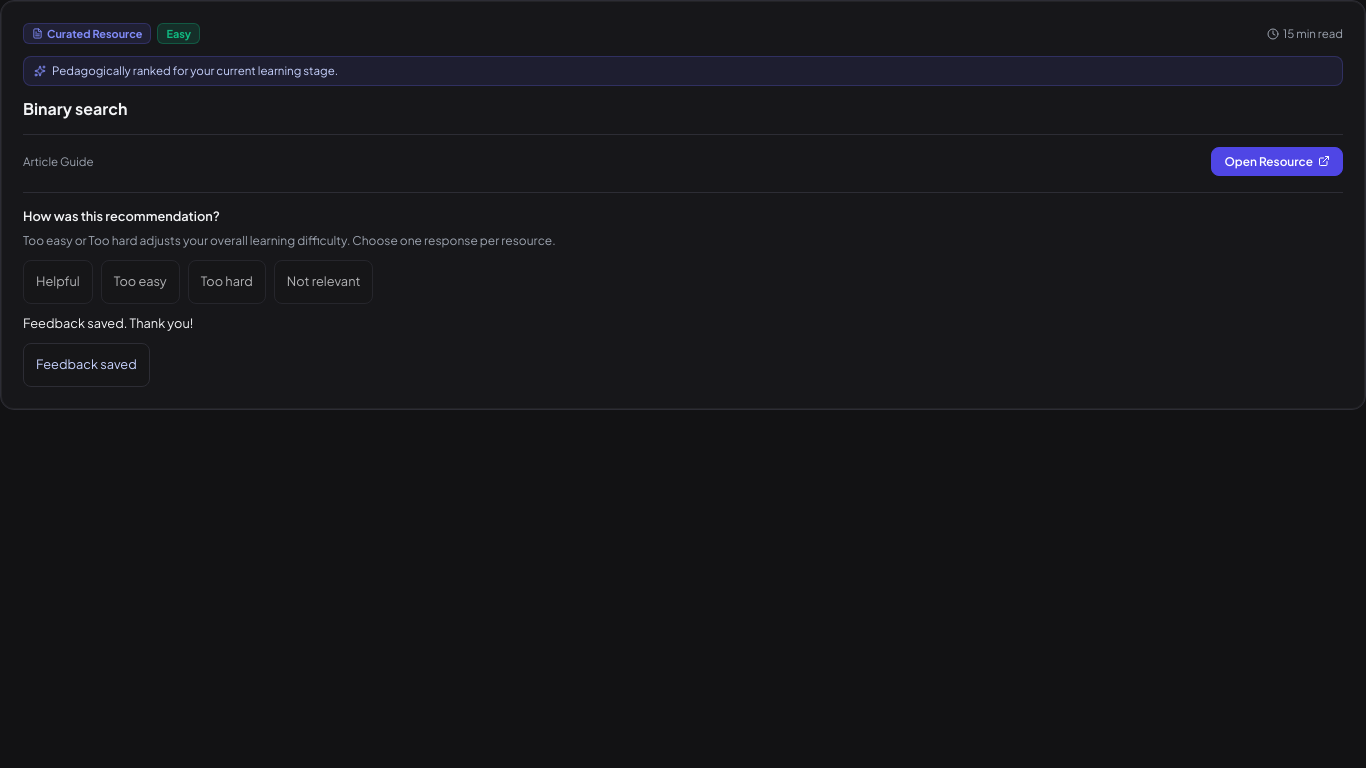
it: Thanks tooltip › dismisses touch-open content on an outside pointer event even without focus
Click the button "Feedback saved" at (86, 365), box [23, 343, 150, 387]
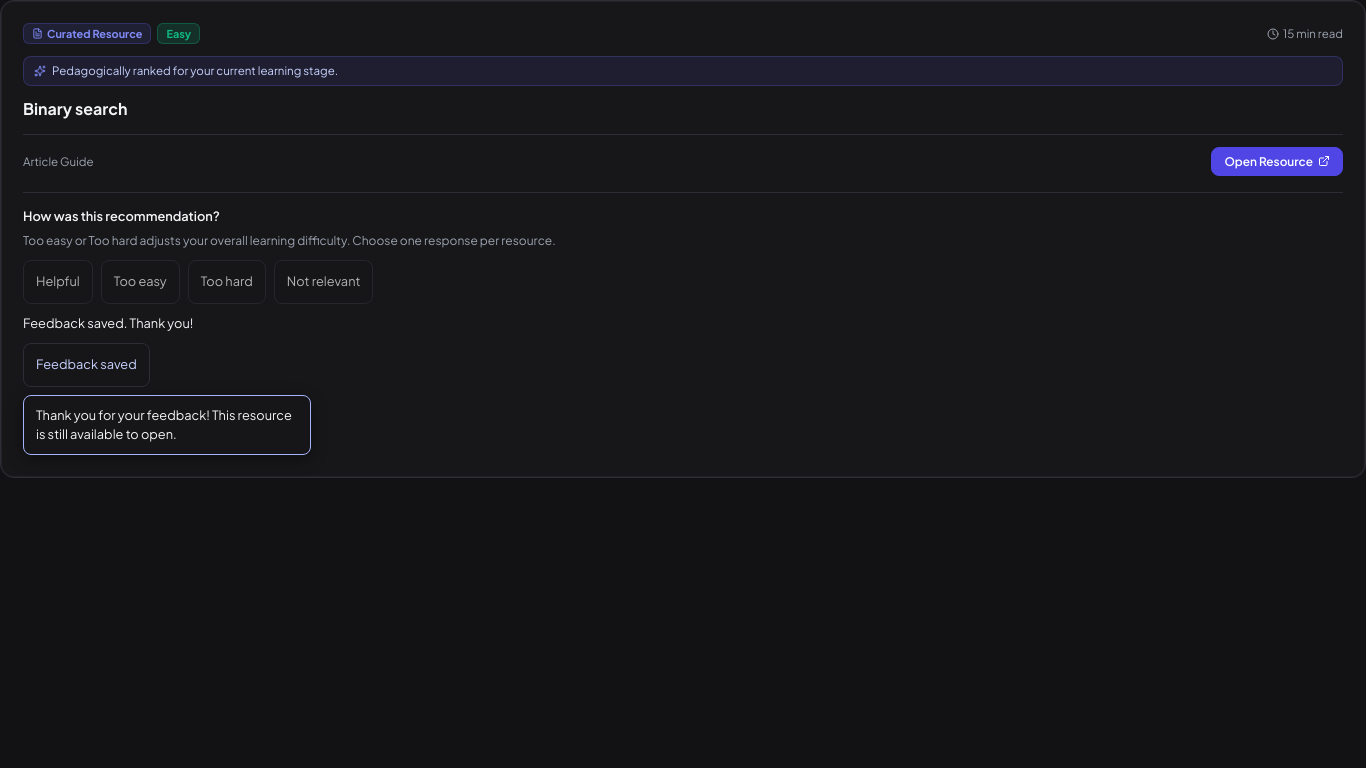
Press the mouse on the tooltip at (167, 425), box [23, 395, 311, 456]
Expected: the tooltip is shown, [23, 395, 311, 456]
Press the mouse on the element that starts with "Curated Resource" at (683, 384), box [0, 0, 1365, 767]
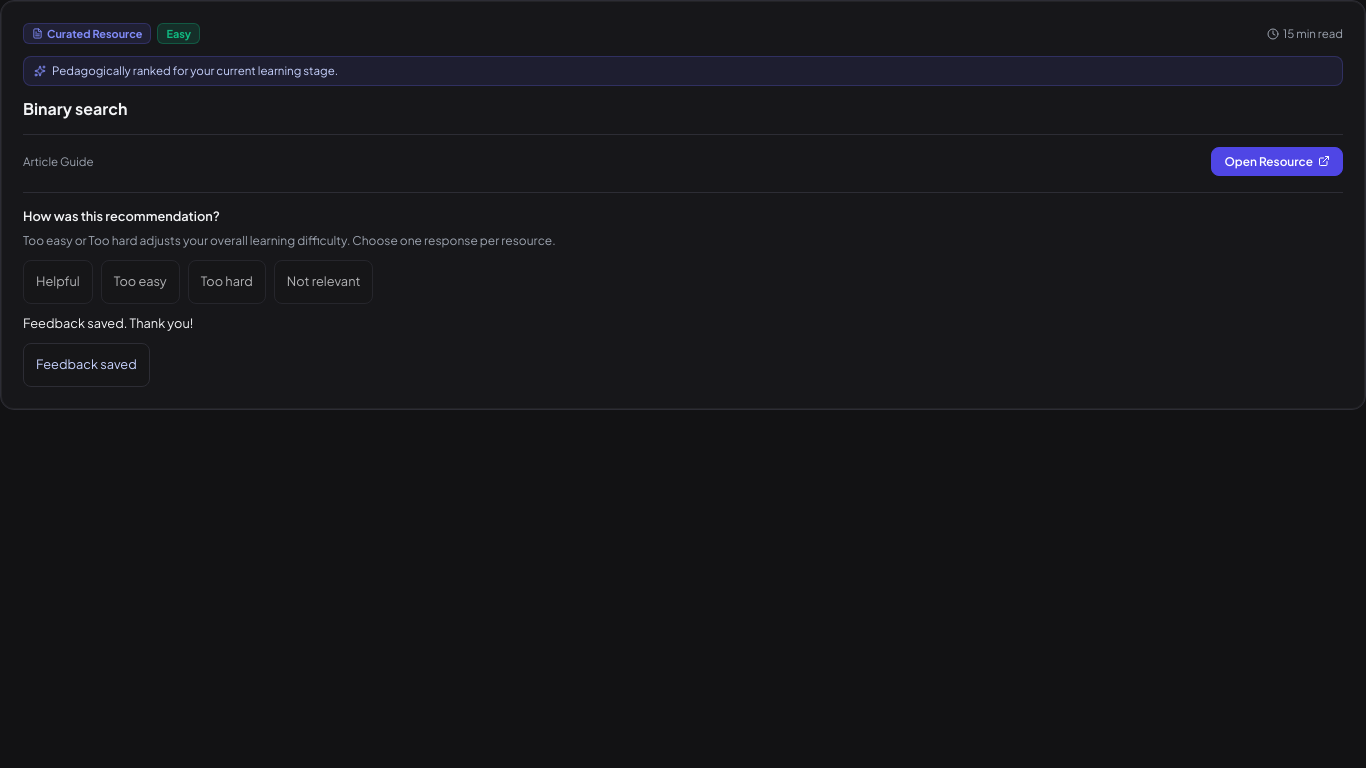
Expected: the tooltip "Thank you for your feedback! This resource is still available to open." is gone
Click the button "Feedback saved" at (86, 365), box [23, 343, 150, 387]
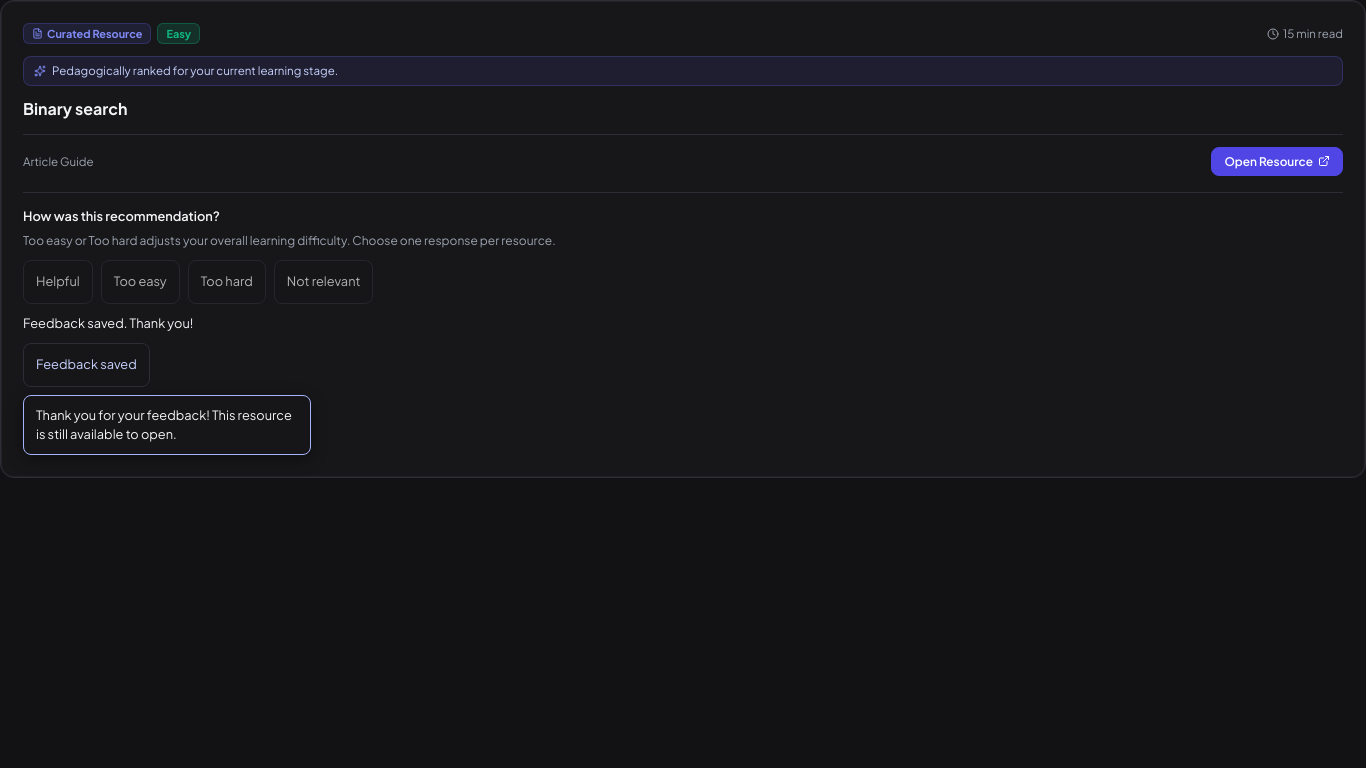
Expected: the tooltip is shown, [23, 395, 311, 456]
